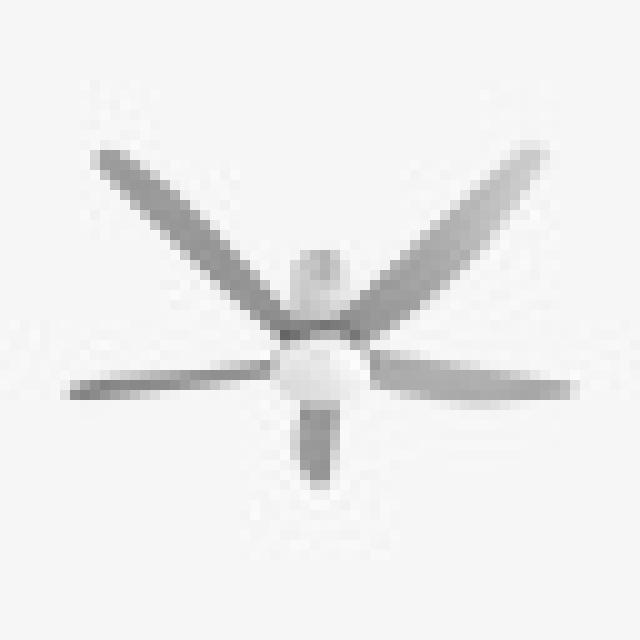Bulb: (58, 140, 640, 463)
